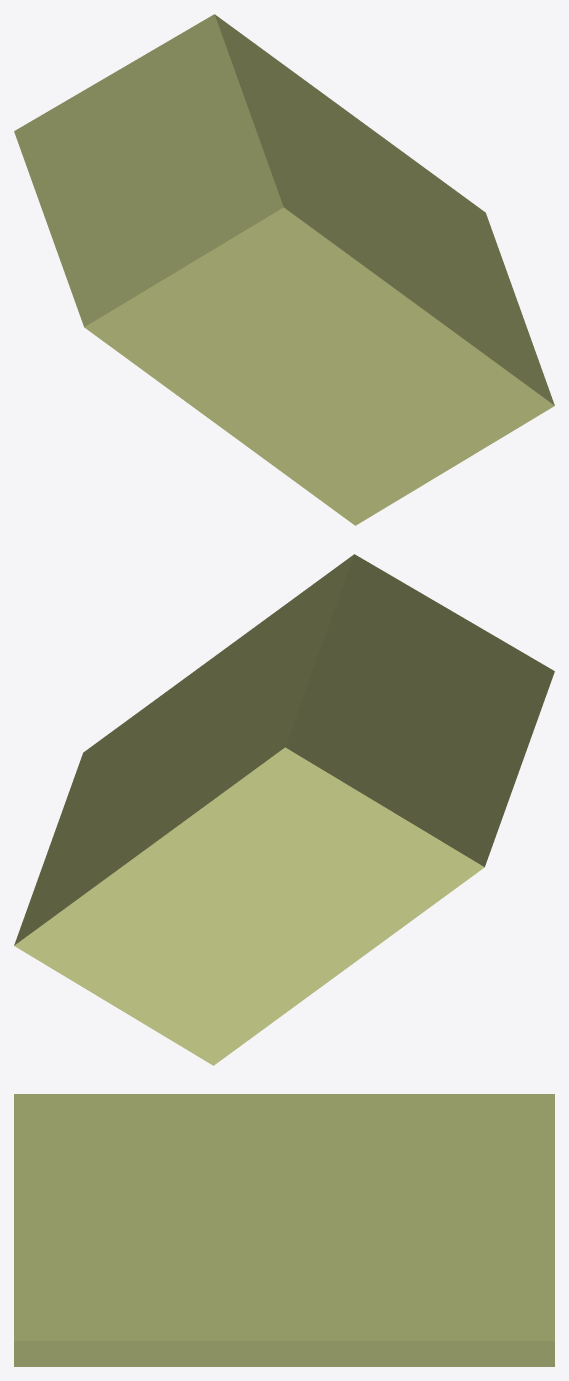
3 renders of one model, top to bottom at view 1: azimuth 30°, elevation 25°; view 2: azimuth 150°, elevation 25°; view 3: azimuth 270°, elevation 25°, orthographic.
Visible parts, largest first — view 1: 0_0_1_2_0_0_3_0_3_1_1_1; view 2: 0_0_1_2_0_0_3_0_3_1_1_1; view 3: 0_0_1_2_0_0_3_0_3_1_1_1.
Boxes of the visible parts, x1=… form: 0_0_1_2_0_0_3_0_3_1_1_1: x1=14, y1=14, x2=554, y2=525; 0_0_1_2_0_0_3_0_3_1_1_1: x1=14, y1=554, x2=554, y2=1065; 0_0_1_2_0_0_3_0_3_1_1_1: x1=14, y1=1094, x2=554, y2=1366.
Bounding box in the file's own units: 5.17 × 5.15 × 9.
